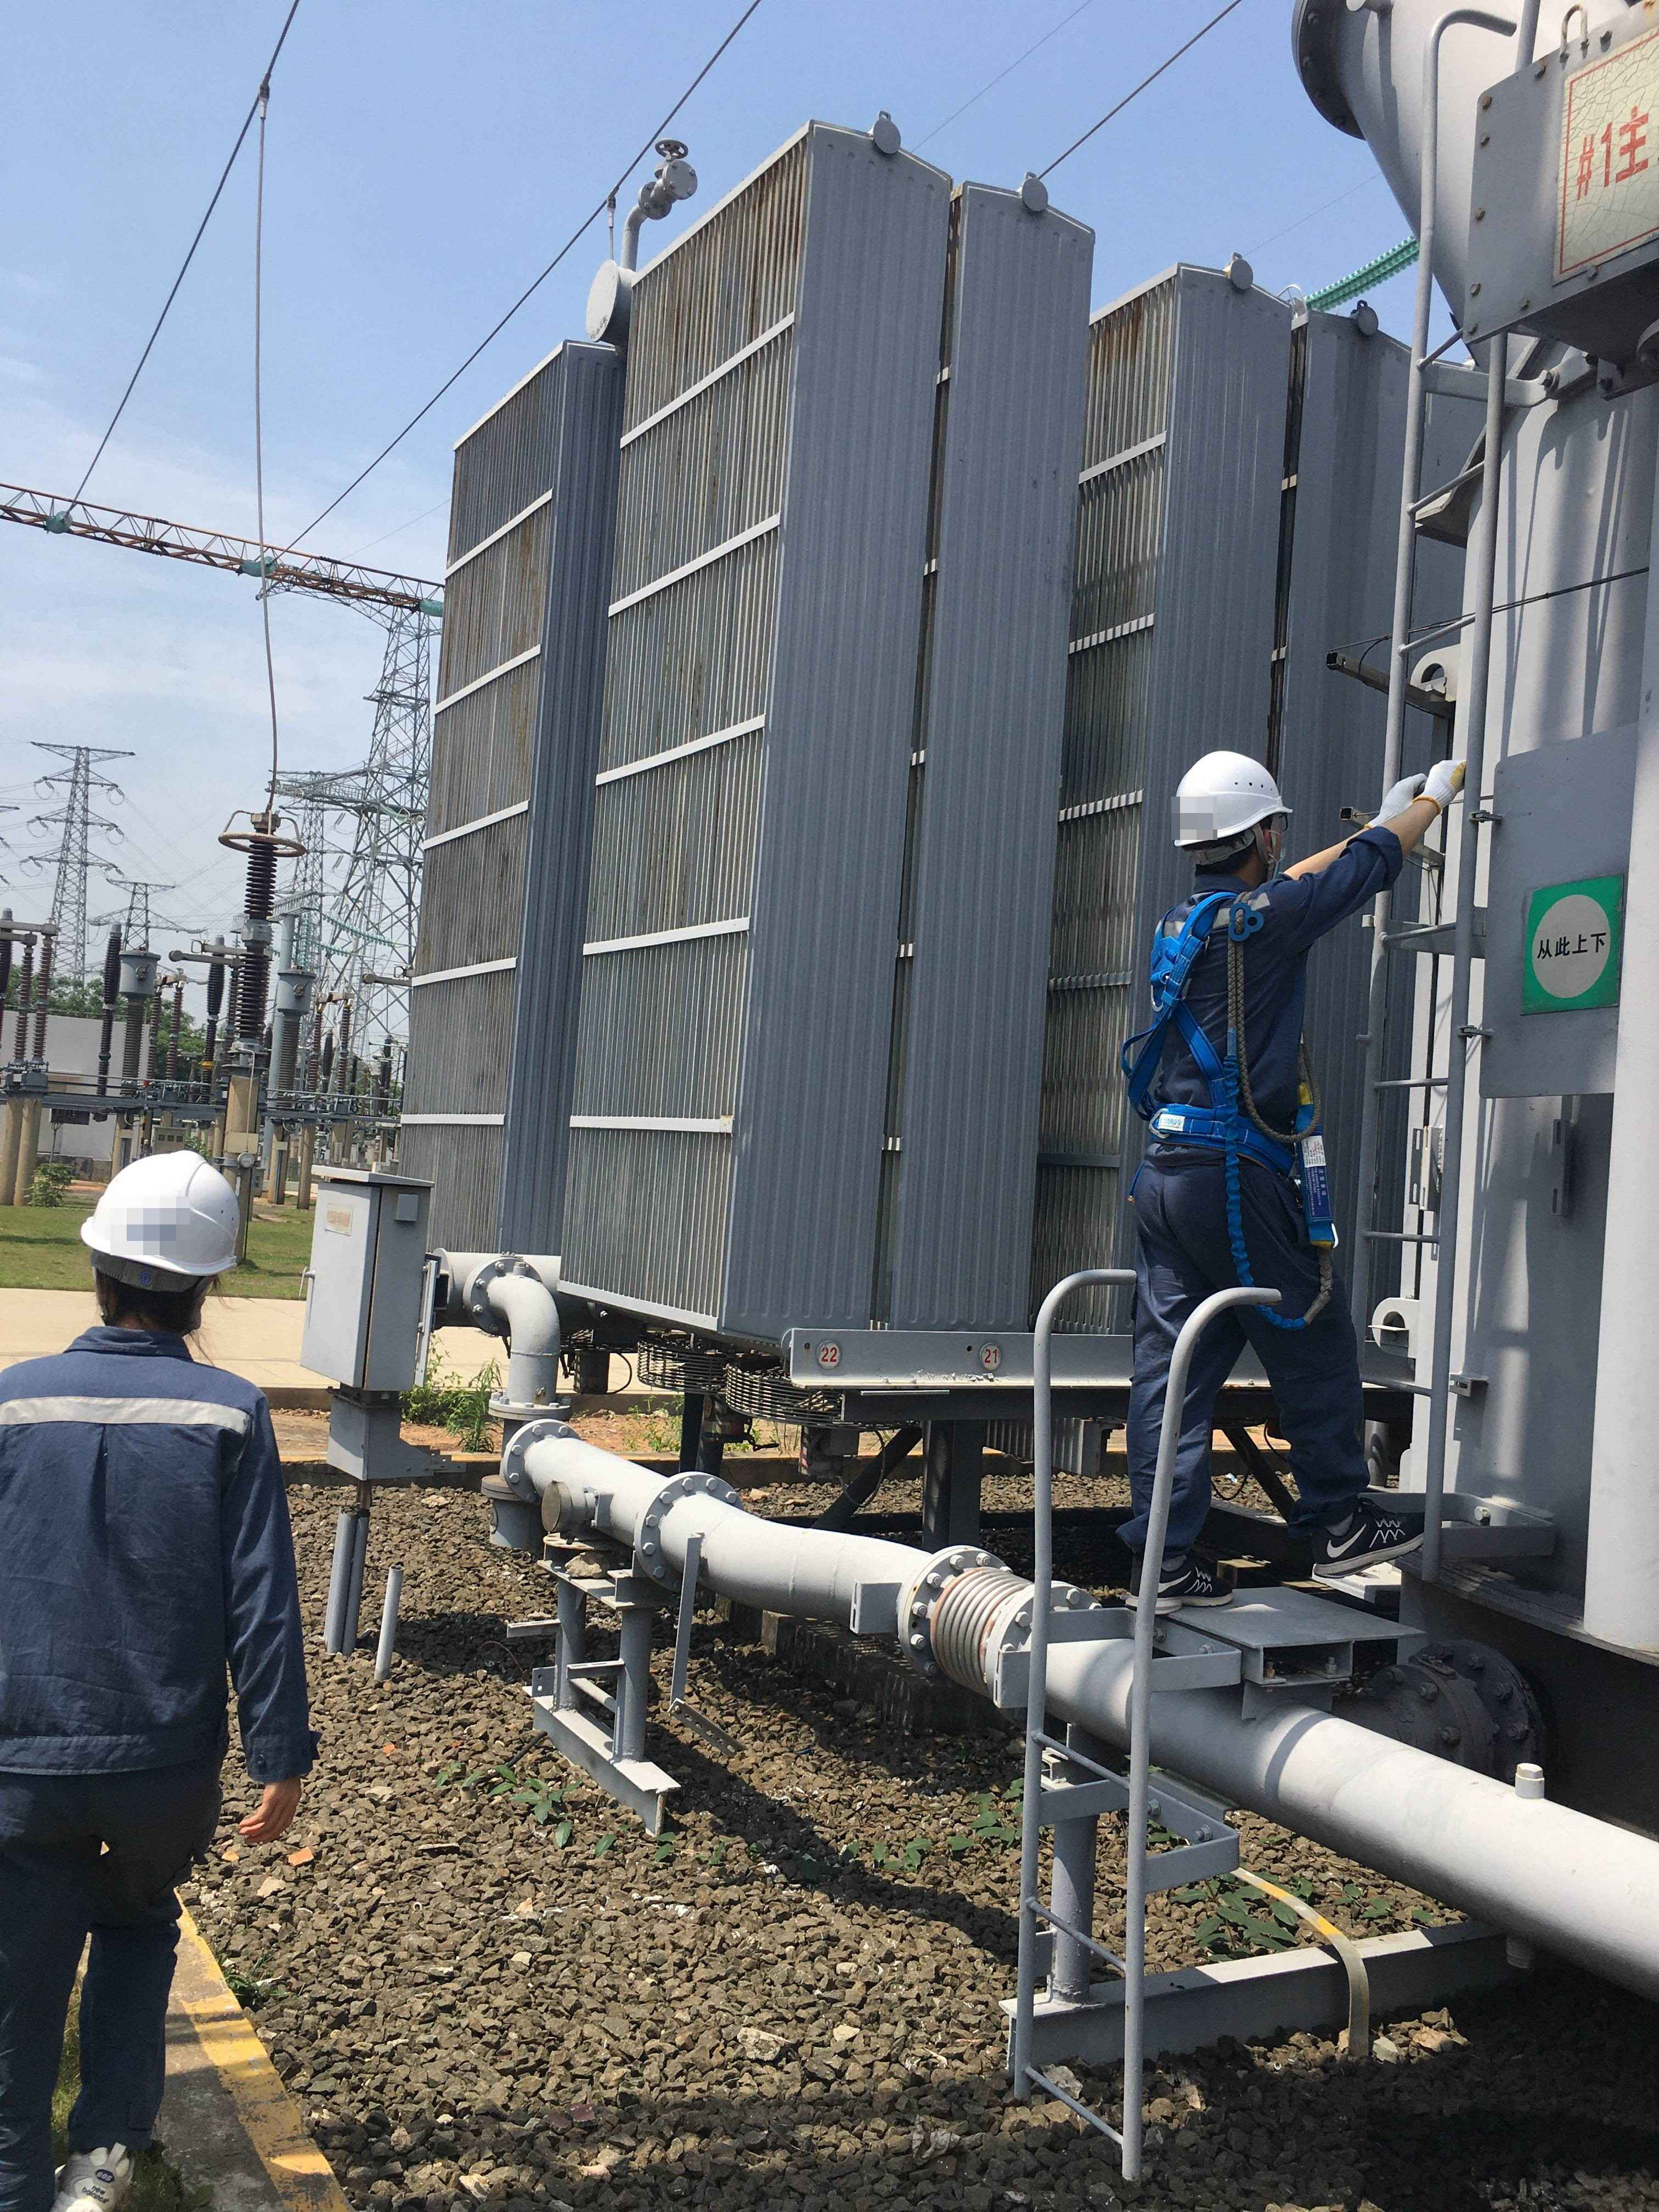downsuit: (1121, 1162, 1387, 1566), (2, 1791, 223, 2207)
upsuit: (2, 1334, 310, 1780), (1126, 843, 1413, 1146)
wrongtop: (1284, 796, 1448, 873)
